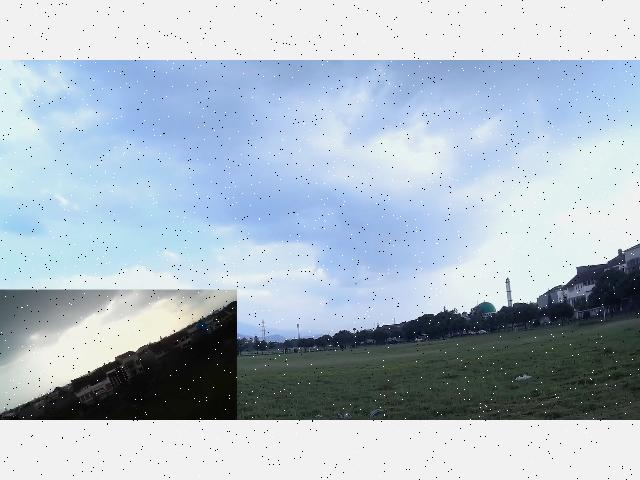Anti-Drone: (350, 280, 360, 286)
